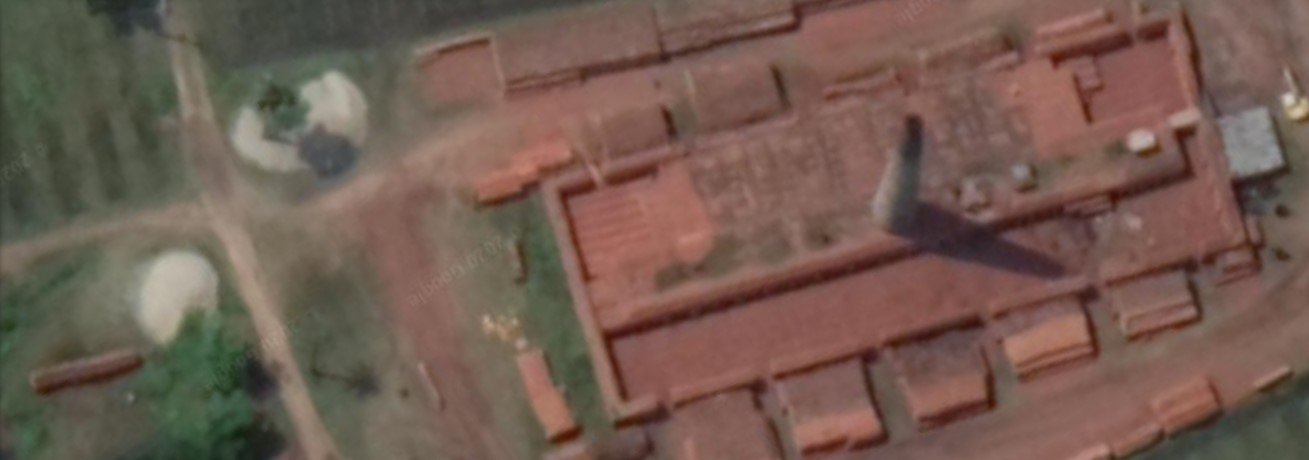kiln: (588, 7, 1206, 433)
